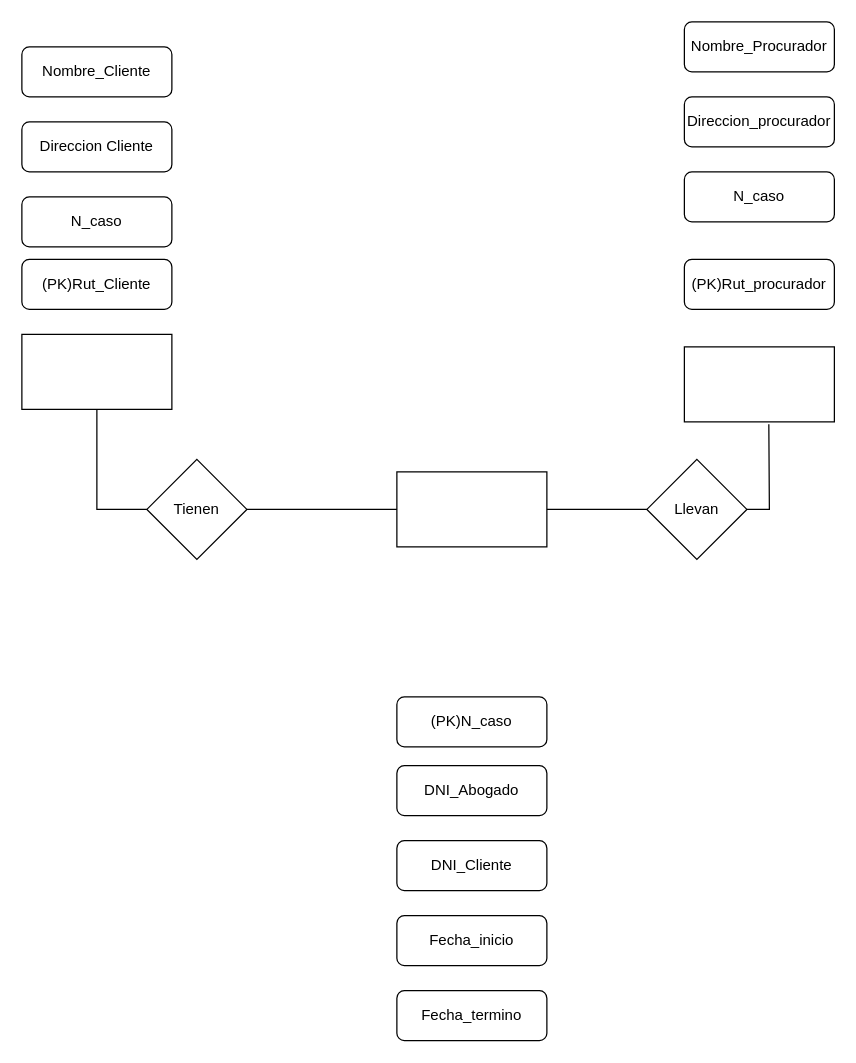
This 856x1063 diagram has some shape labels left out. The centre of each missing label's shape, as x and y in pixels:
"Asuntos" belongs at pixel 471 509.
"Clientes" belongs at pixel 96 371.
"Procuradores" belongs at pixel 758 384.
